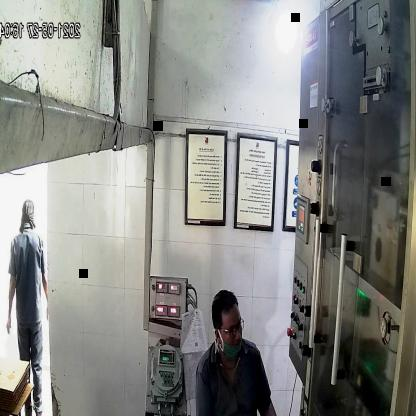goggles: (215, 316, 248, 343)
